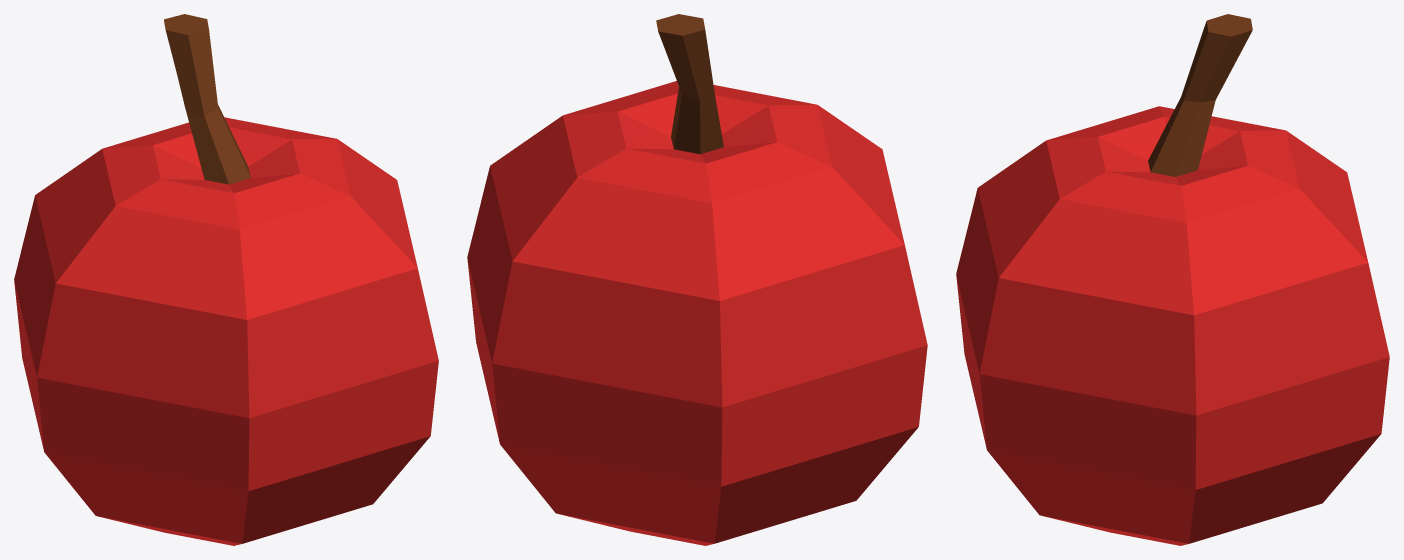
File: Apple.obj
3 views of the same model, side by side, from view 1: azimuth 30°, elevation 25°; view 2: azimuth 150°, elevation 25°; view 3: azimuth 270°, elevation 25° (orthographic). The views are drawn at different scales.
Visible parts, largest first — view 1: Apple_Circle; view 2: Apple_Circle; view 3: Apple_Circle.
Boxes of the visible parts, bbox=[...] form: Apple_Circle: bbox=[14, 14, 438, 545]; Apple_Circle: bbox=[467, 14, 927, 545]; Apple_Circle: bbox=[956, 14, 1389, 545].
Bounding box in the file's own units: 0.1792 × 0.2015 × 0.1641.
